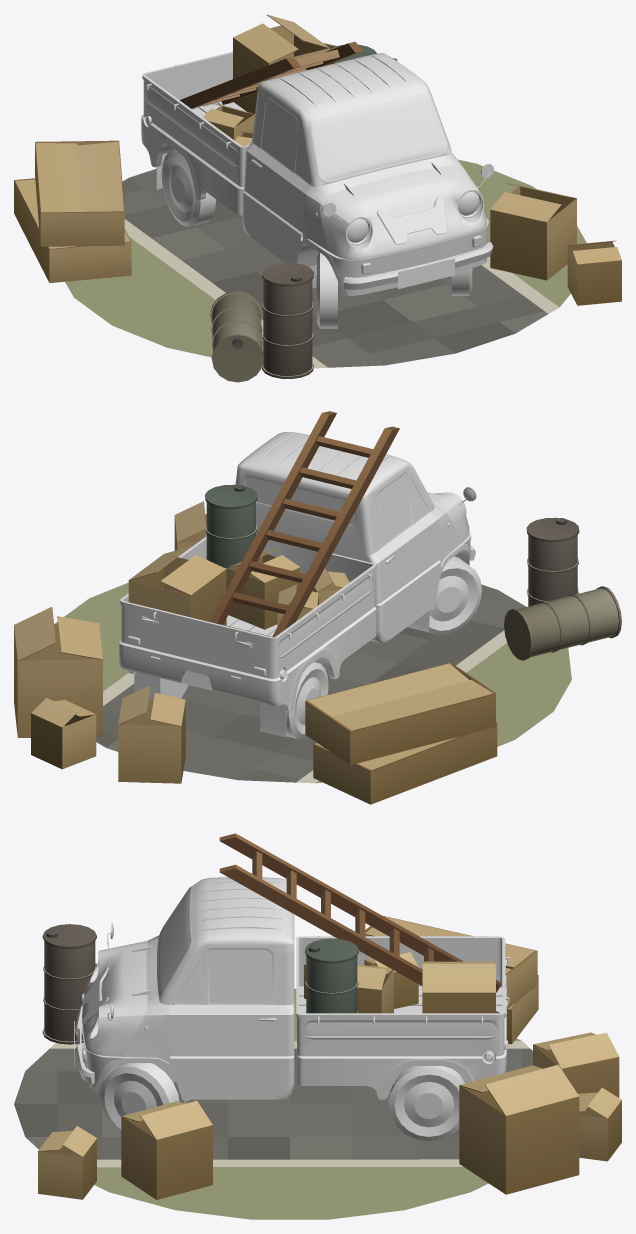
Rendered from environment-moving-and-hauling.fbx.
3 renders of one model, top to bottom at view 1: azimuth 30°, elevation 25°; view 2: azimuth 150°, elevation 25°; view 3: azimuth 270°, elevation 25°, orthographic. The views are drawn at different scales.
Visible parts, largest first — view 1: Environment, Body, Cube.018, RRW, FRW, Circle.001, FLW; view 2: Environment, Body, Cube.018, FRW, RRW; view 3: Environment, Body, Cube.018, RLW, FLW.
Part boxes in pixels (bbox=[...]): Environment: bbox=[14, 43, 621, 382]; Body: bbox=[141, 51, 493, 296]; Cube.018: bbox=[180, 14, 376, 146]; RRW: bbox=[161, 150, 216, 226]; FRW: bbox=[316, 252, 337, 328]; Circle.001: bbox=[398, 258, 454, 288]; FLW: bbox=[451, 268, 472, 295]; Environment: bbox=[14, 501, 621, 804]; Body: bbox=[119, 432, 476, 737]; Cube.018: bbox=[128, 411, 399, 637]; FRW: bbox=[427, 556, 481, 635]; RRW: bbox=[286, 662, 328, 739]; Environment: bbox=[14, 916, 621, 1219]; Body: bbox=[75, 877, 509, 1103]; Cube.018: bbox=[219, 833, 500, 1013]; RLW: bbox=[388, 1066, 464, 1141]; FLW: bbox=[100, 1063, 179, 1133].
Bounding box in the file's own units: 385 × 183 × 422.
3 materials, 1 textured.
